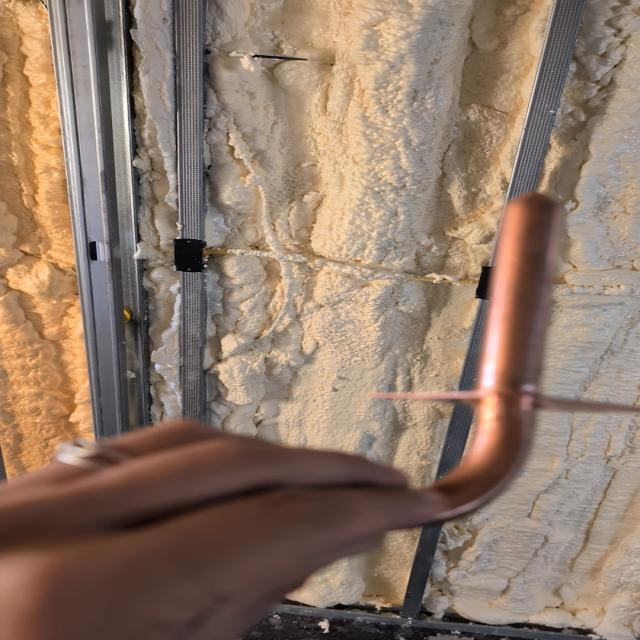wall_flange: (351, 168, 640, 534)
